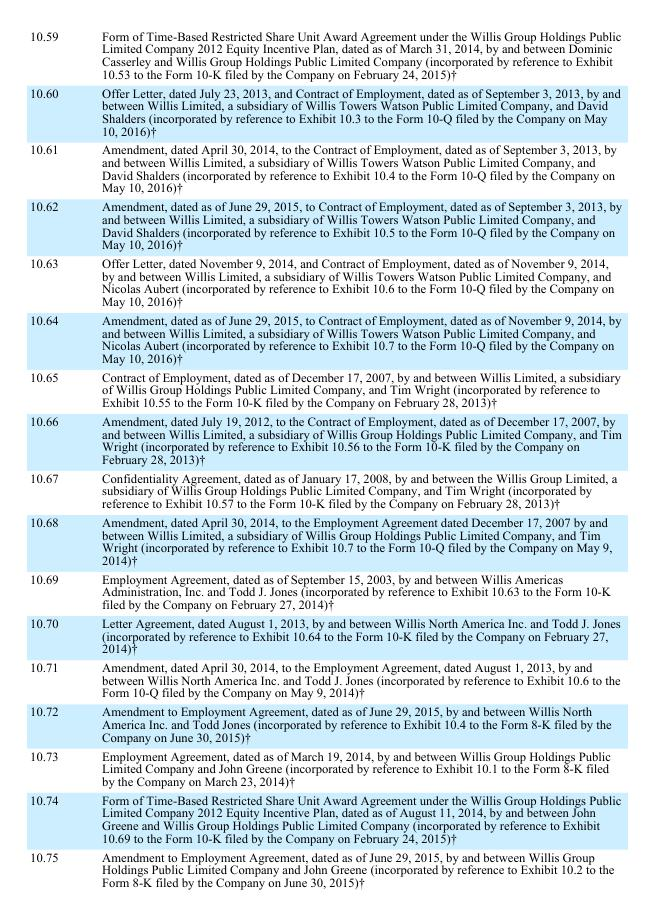table: (29, 28, 621, 888)
table column: (79, 28, 621, 888), (29, 28, 79, 888)
table row: (29, 82, 621, 139), (29, 139, 621, 196), (29, 196, 621, 253), (29, 253, 621, 310), (29, 310, 621, 367), (29, 411, 621, 468), (29, 512, 621, 569), (29, 789, 621, 846), (29, 28, 621, 82), (29, 367, 621, 411), (29, 468, 621, 512), (29, 569, 621, 613), (29, 613, 621, 657), (29, 657, 621, 701), (29, 701, 621, 745), (29, 745, 621, 789), (29, 846, 621, 888)
